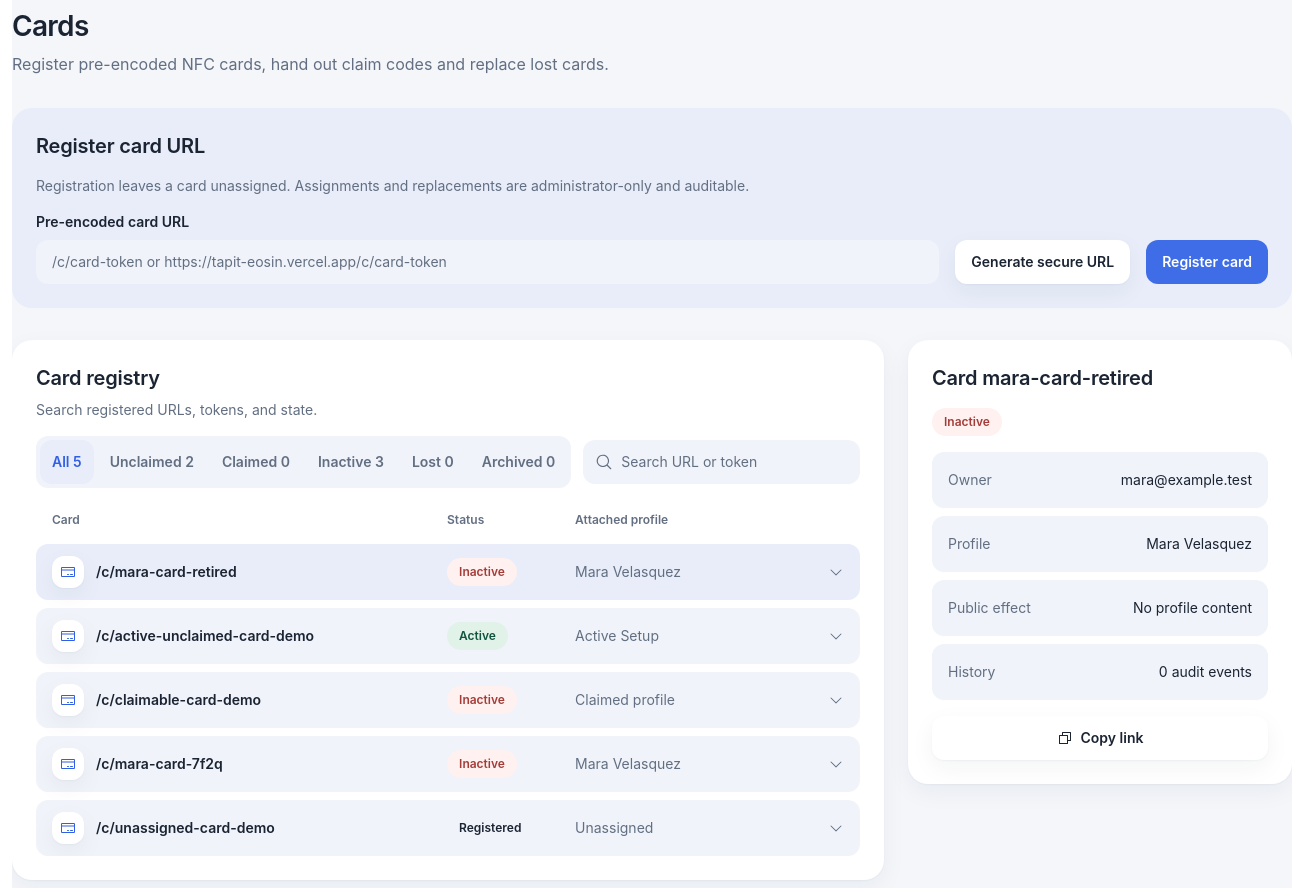
Test: local-demo card links › rejects a registration if another tab registers the token before submit
Type "/c/race-registration" into the field labelled "Pre-encoded card URL" at [488, 262], box [36,240,939,284]
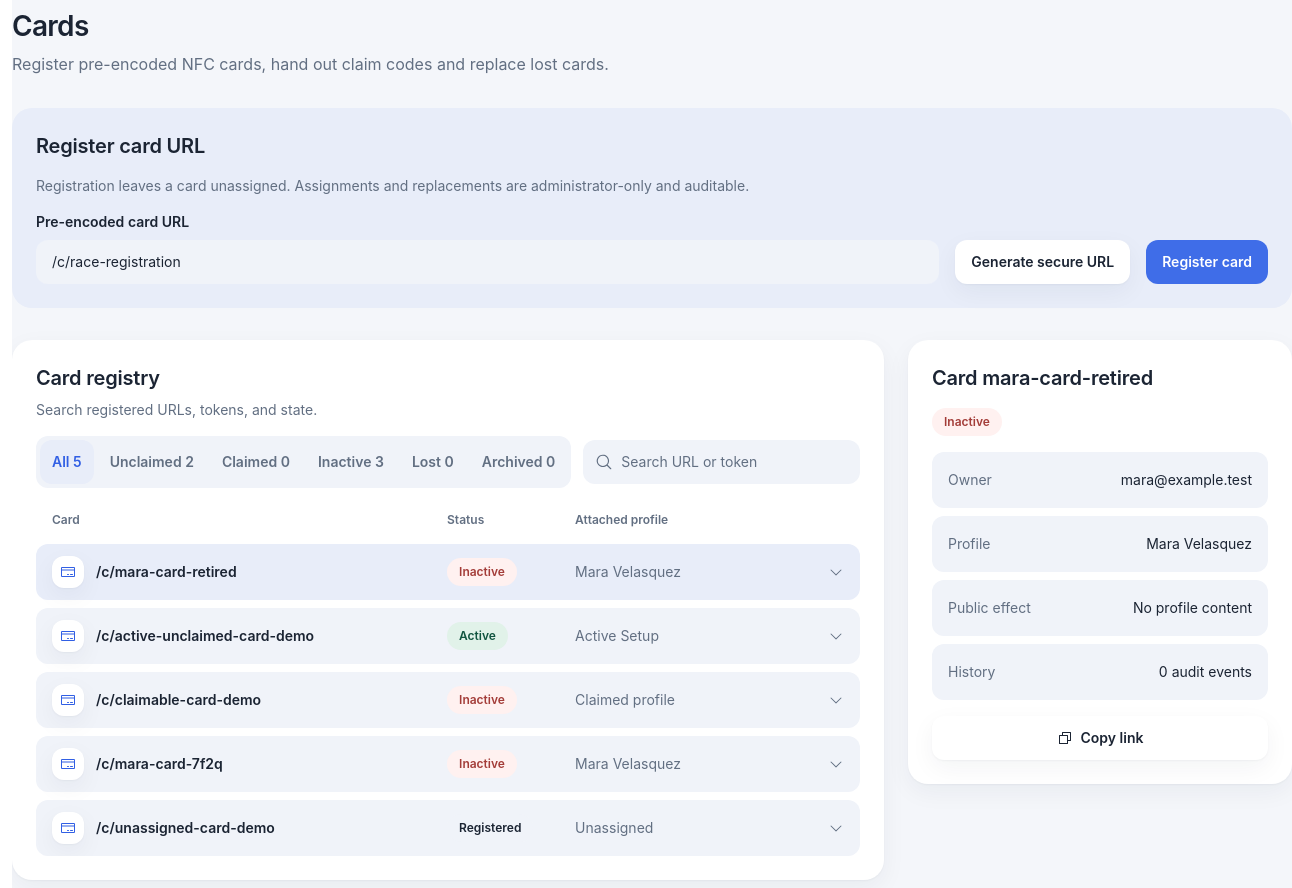
Click the button "Register card" at [1207, 262], box [1146,240,1268,284]
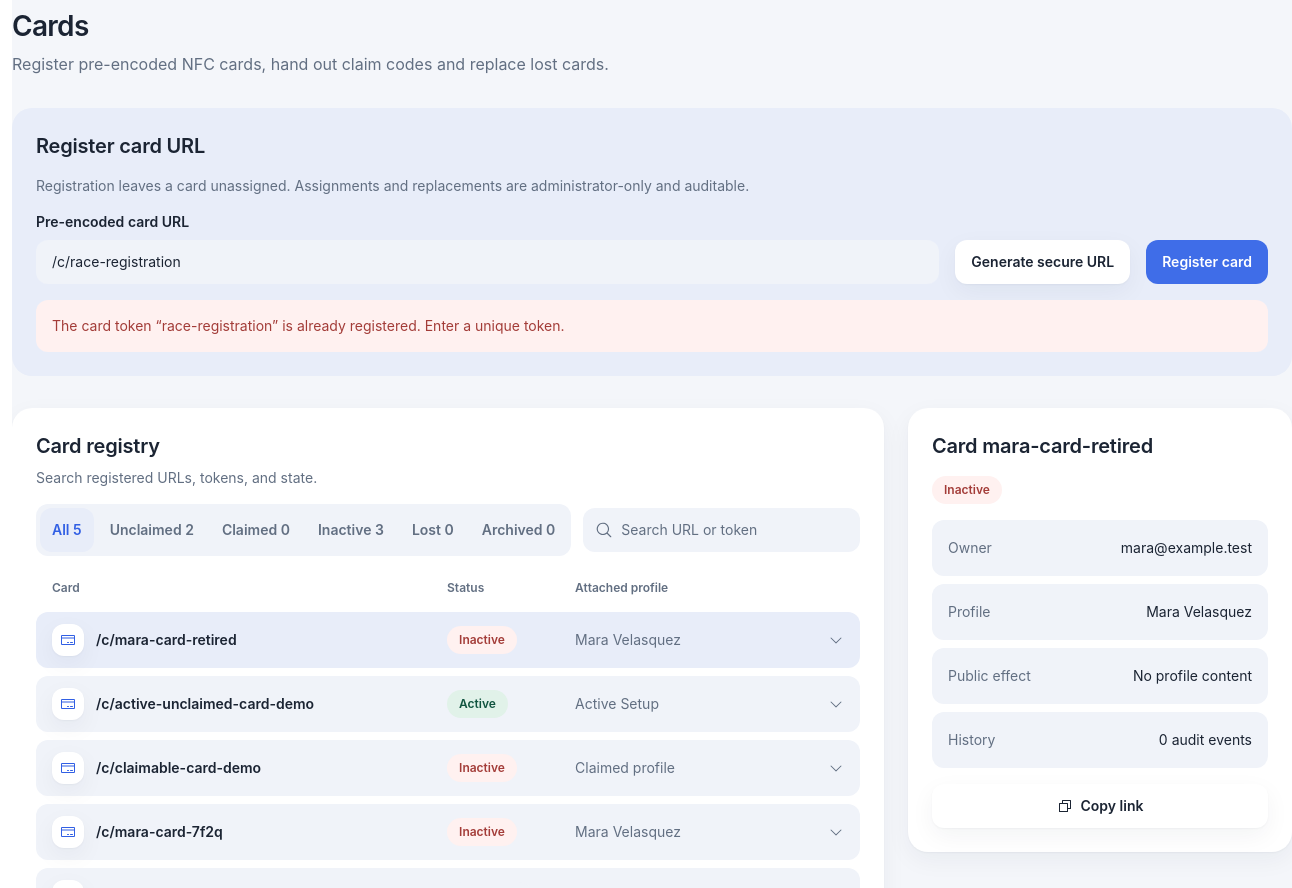
Expected: the text "already registered" is shown, [52,317,565,334]
